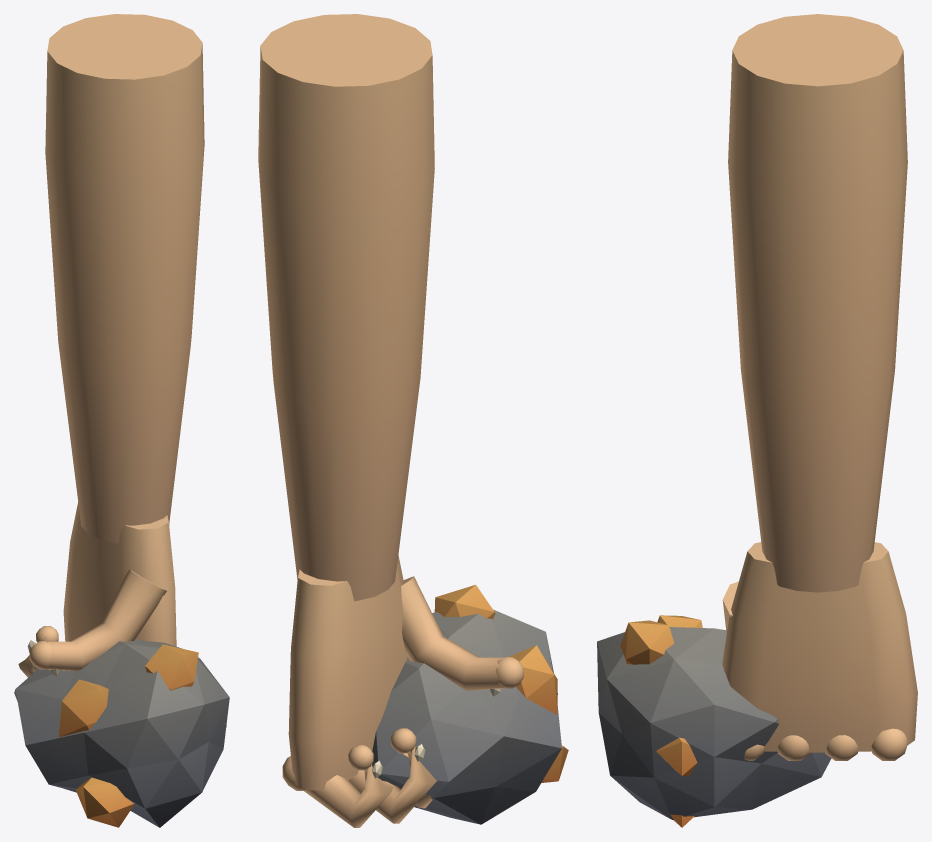
File: merchant_aron_fore_l.glb
3 renders of one model, left to right at view 1: azimuth 30°, elevation 25°; view 2: azimuth 150°, elevation 25°; view 3: azimuth 270°, elevation 25°, orthographic. The views are drawn at different scales.
Visible parts, largest first — view 1: merchant_aron_fore_l; view 2: merchant_aron_fore_l; view 3: merchant_aron_fore_l.
Boxes of the visible parts, bbox=[...] form: merchant_aron_fore_l: bbox=[14, 14, 229, 827]; merchant_aron_fore_l: bbox=[258, 14, 568, 827]; merchant_aron_fore_l: bbox=[597, 14, 917, 827].
Size of the model in its own units: 0.4781 by 1.51 by 0.562.
1 material, 1 textured.
